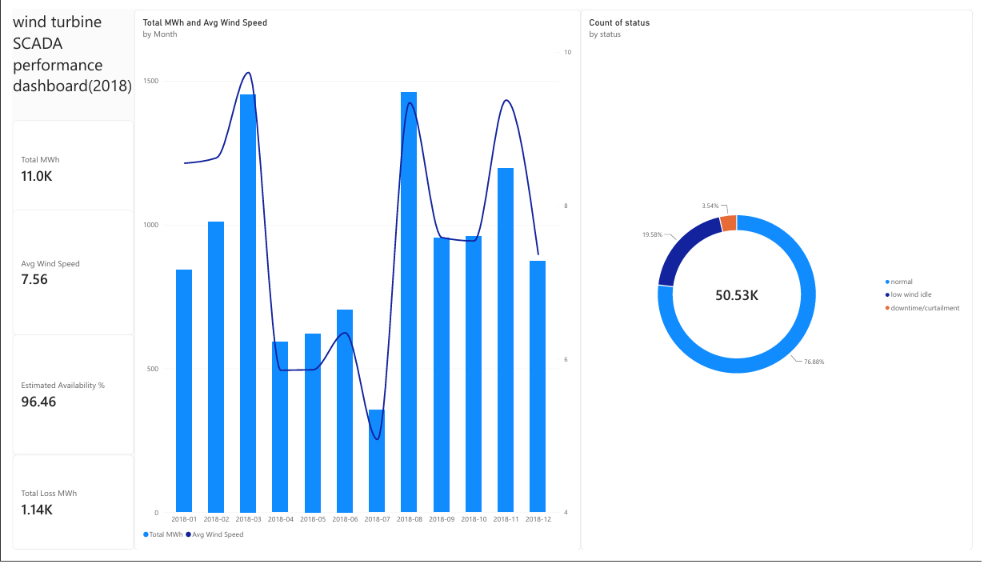

This screenshot's page, from the dashboard's own definition file:
{"tool":"powerbi","page":{"name":"overview","canvas":[1920,1080],"ordinal":0},"visuals":[{"type":"cardVisual","fields":{"Data":["T1.Total MWh"]},"box":[0,222.3,242.9,193.5],"z":0},{"type":"cardVisual","fields":{"Data":["T1.Avg Wind Speed"]},"box":[0,401.4,242.9,249.1],"z":1},{"type":"cardVisual","fields":{"Data":["T1.Estimated Availability %"]},"box":[0,650.4,242.9,240.8],"z":2},{"type":"cardVisual","fields":{"Data":["T1.Total Loss MWh"]},"box":[0,891.3,242.9,189.4],"z":3},{"type":"textbox","box":[0,0,242.9,222.3],"z":4},{"type":"lineClusteredColumnComboChart","fields":{"Category":["T1.Month"],"Y":["T1.Total MWh"],"Y2":["T1.Avg Wind Speed"]},"box":[242.9,0,893.3,1080.6],"z":5},{"type":"donutChart","fields":{"Category":["T1.status"],"Y":["CountNonNull(T1.status)"]},"box":[1136.2,0,784.2,1080.6],"z":6}]}

Visuals, with their boxes in screenshot pixels (x1, y1, x2, y2), scaled from the page's 1920x1080 canvas onto the 982x562 screenshot:
cardVisual - T1.Total MWh: l=0, t=116, r=124, b=216
cardVisual - T1.Avg Wind Speed: l=0, t=209, r=124, b=339
cardVisual - T1.Estimated Availability %: l=0, t=338, r=124, b=464
cardVisual - T1.Total Loss MWh: l=0, t=464, r=124, b=561
textbox: l=0, t=0, r=124, b=116
lineClusteredColumnComboChart - T1.Month x T1.Total MWh: l=124, t=0, r=581, b=561
donutChart - T1.status x CountNonNull(T1.status): l=581, t=0, r=981, b=561
